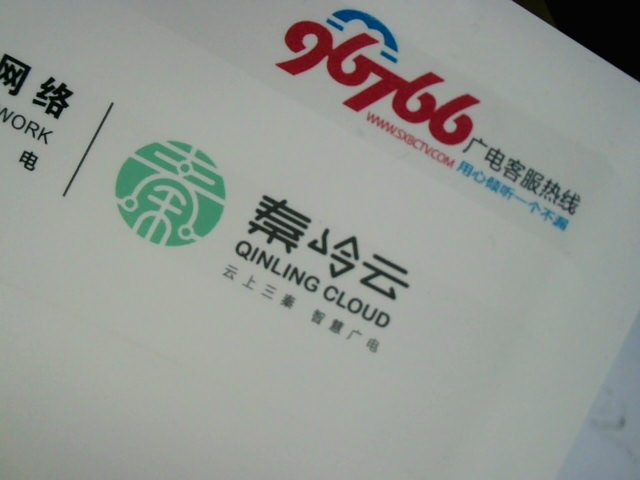AE_QinLing: (109, 120, 427, 362)
